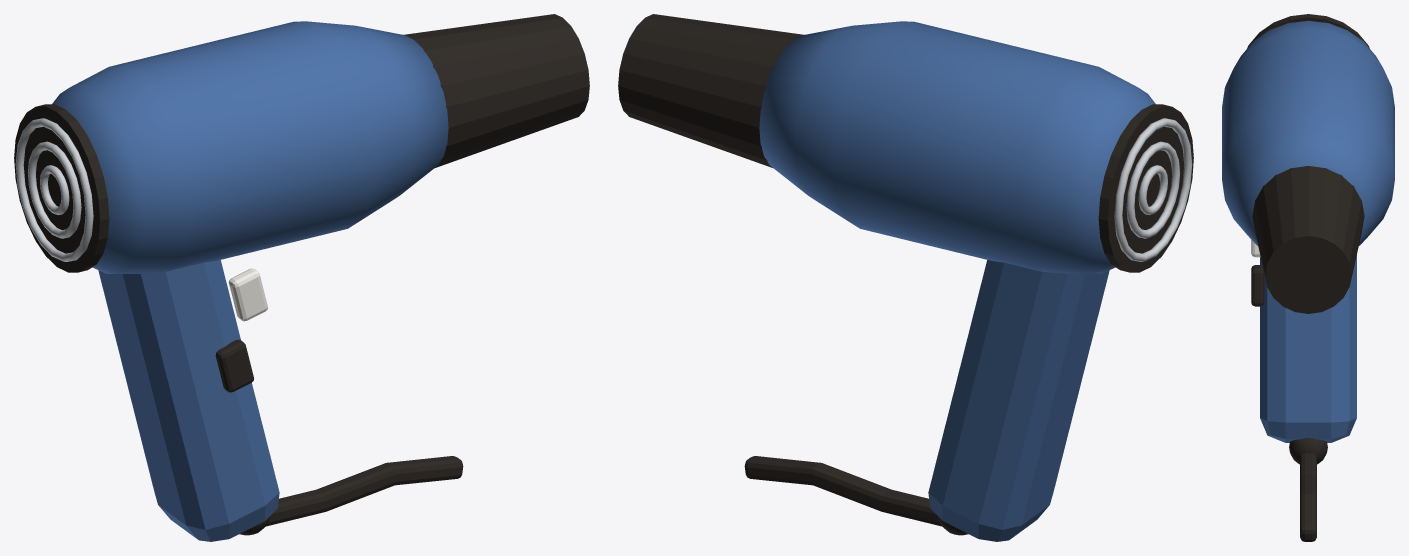
The model's file is hh_cat_hair_dryer.glb.
The picture shows the model from 3 angles, left to right: view 1: azimuth 30°, elevation 25°; view 2: azimuth 150°, elevation 25°; view 3: azimuth 270°, elevation 25°; orthographic projection. The views are drawn at different scales.
Visible parts, largest first — view 1: barrel, handle, nozzle, vent, cord.001, vent_ring.002, vent_ring.001, switch, switch.001, vent_ring; view 2: barrel, handle, nozzle, vent, cord.001, vent_ring.002, vent_ring.001, vent_ring; view 3: barrel, handle, nozzle, cord.001, vent, cord, switch.001.
Part boxes in pixels (x1,y1,x2,y2): barrel: (52,21,448,273); handle: (98,260,279,541); nozzle: (403,14,589,167); vent: (14,104,109,272); cord.001: (266,456,463,526); vent_ring.002: (15,118,93,261); vent_ring.001: (28,141,81,238); switch: (228,268,267,321); switch.001: (215,339,253,392); vent_ring: (40,165,69,214); barrel: (759,21,1155,273); handle: (928,260,1109,541); nozzle: (618,14,804,167); vent: (1098,104,1193,272); cord.001: (744,456,941,526); vent_ring.002: (1114,118,1192,261); vent_ring.001: (1126,141,1179,238); vent_ring: (1138,165,1167,214); barrel: (1222,20,1394,245); handle: (1260,255,1356,442); nozzle: (1252,166,1364,313); cord.001: (1300,453,1316,541); vent: (1247,14,1369,48); cord: (1289,438,1327,464); switch.001: (1251,265,1264,306).
Bounding box in the file's own units: 0.22 × 0.2 × 0.08.
